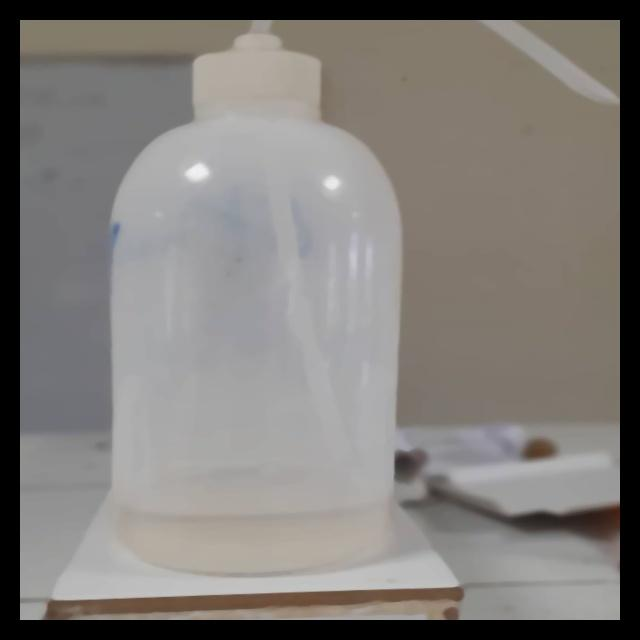Washing Bottle: (70, 20, 620, 577)
